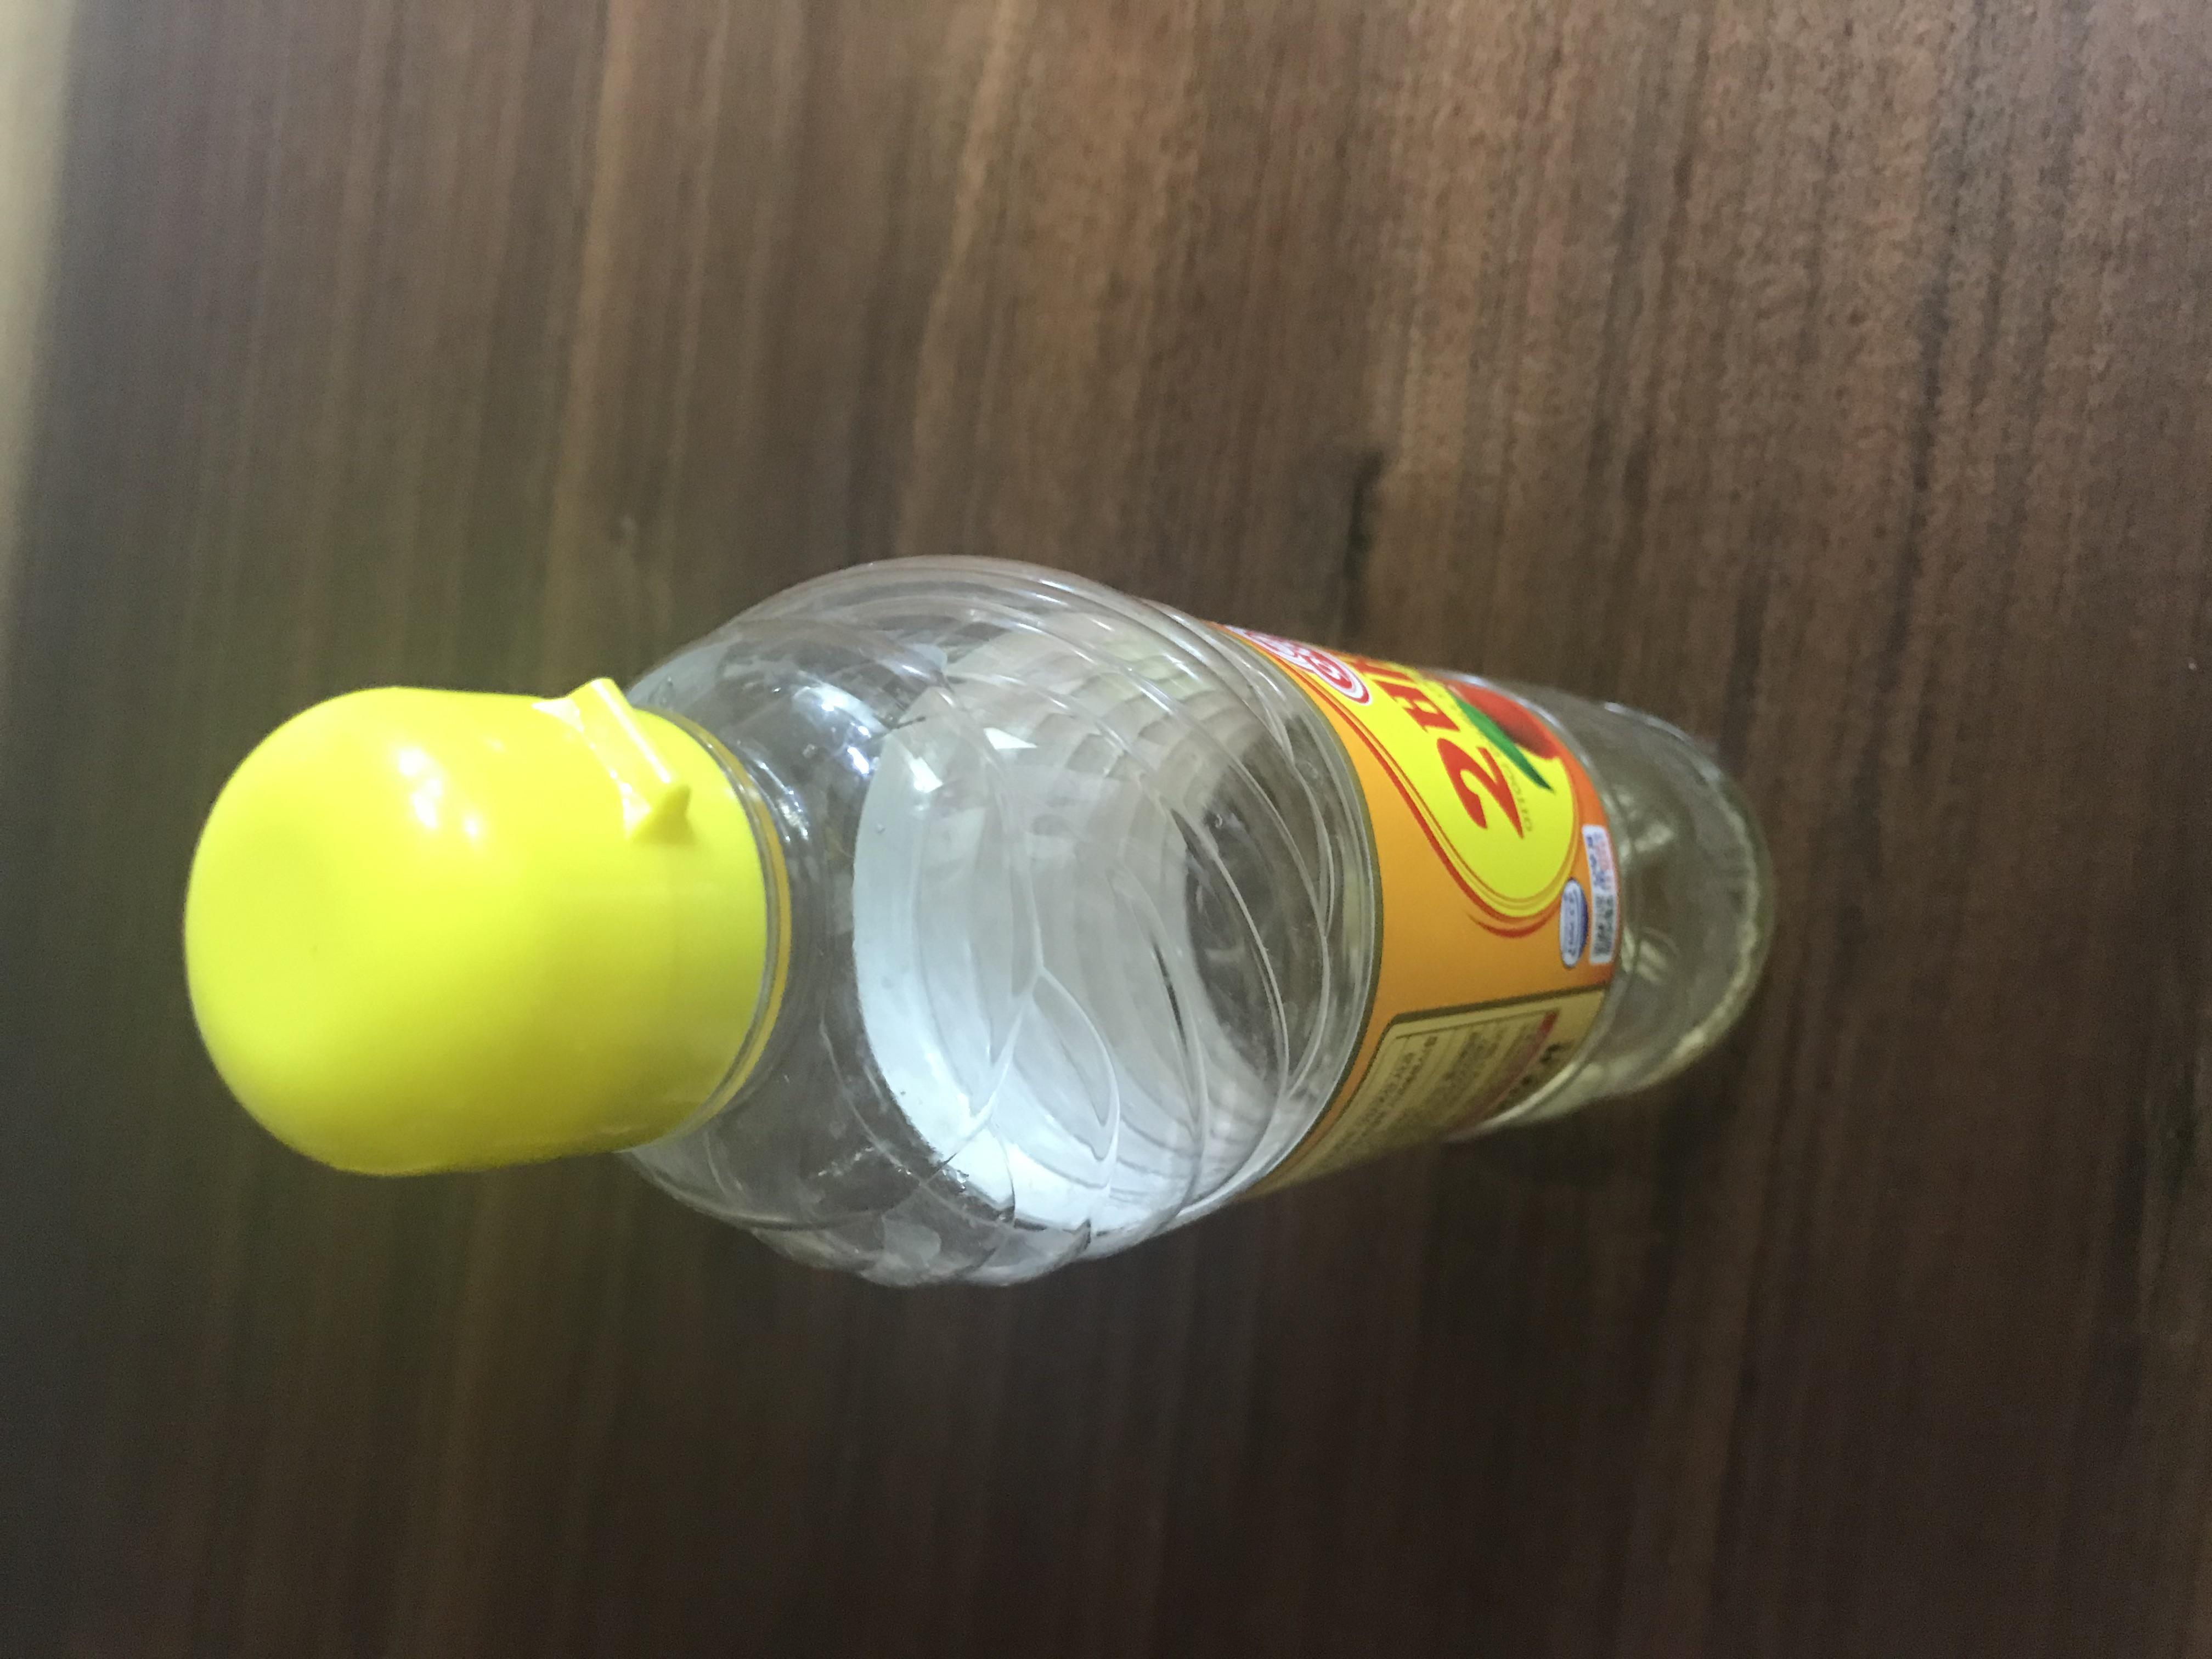bottle: (451, 124, 1564, 1392)
